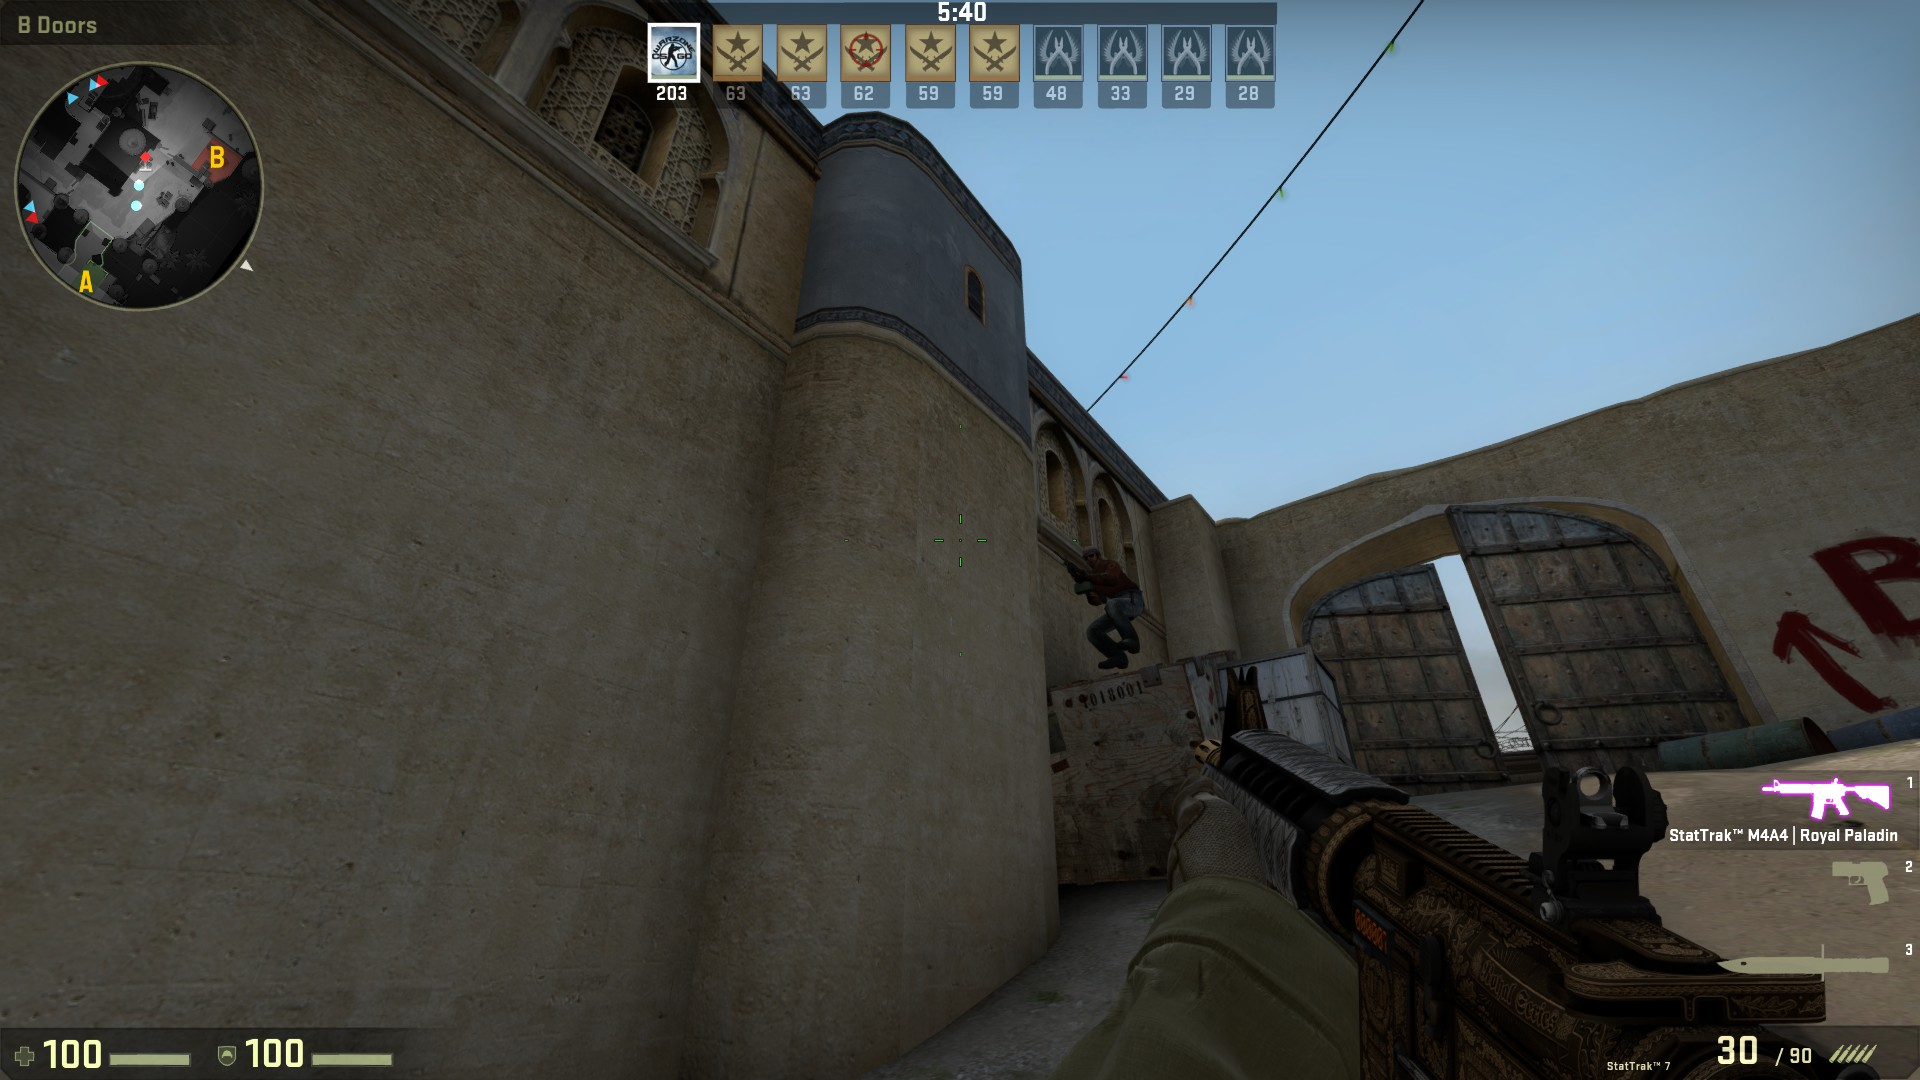t: (1065, 545, 1146, 670)
th: (1075, 546, 1106, 572)
